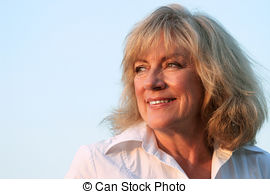face: (127, 19, 211, 133)
